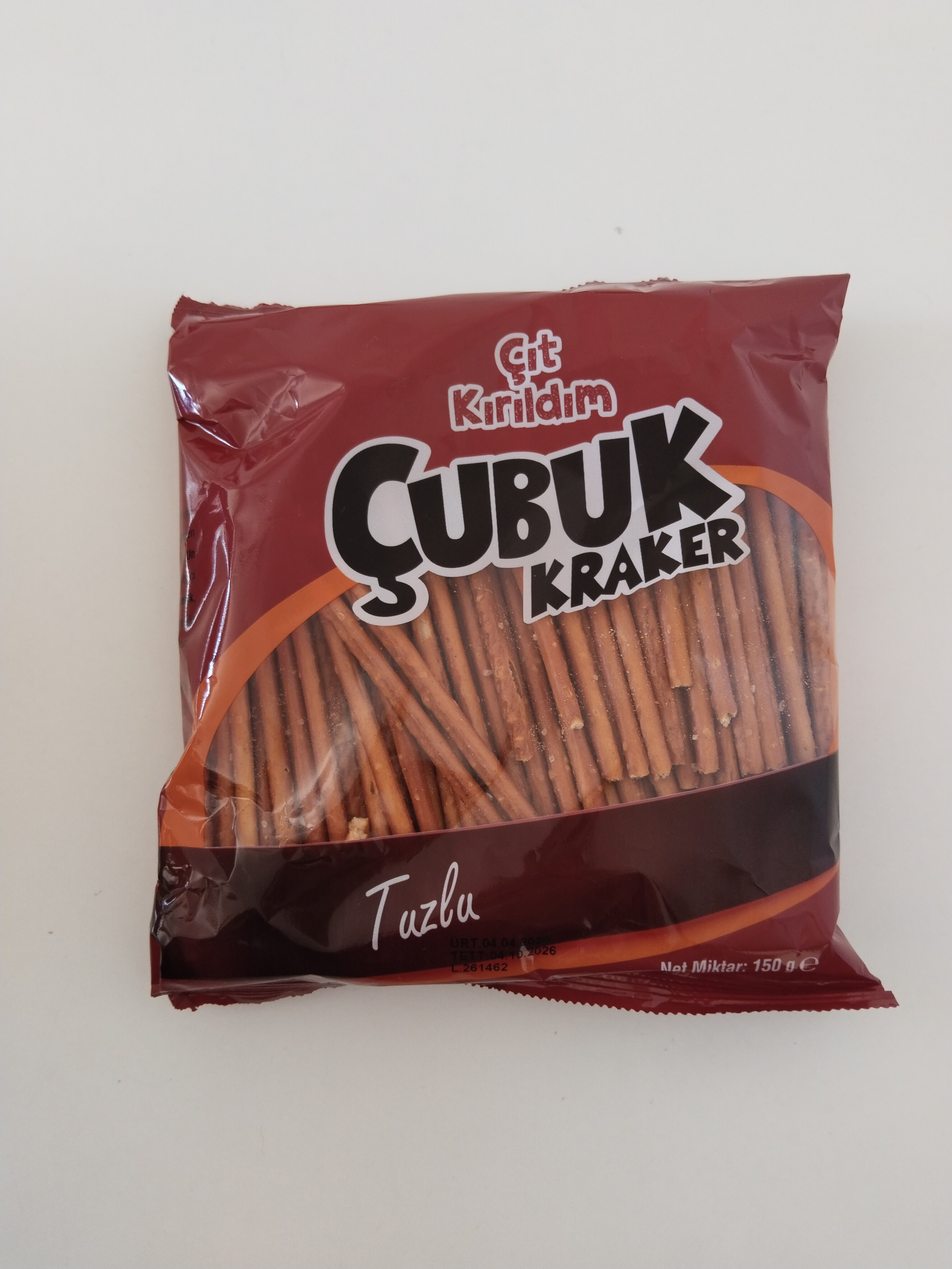citkirildim_cubuk_kraker: (156, 279, 856, 1014)
